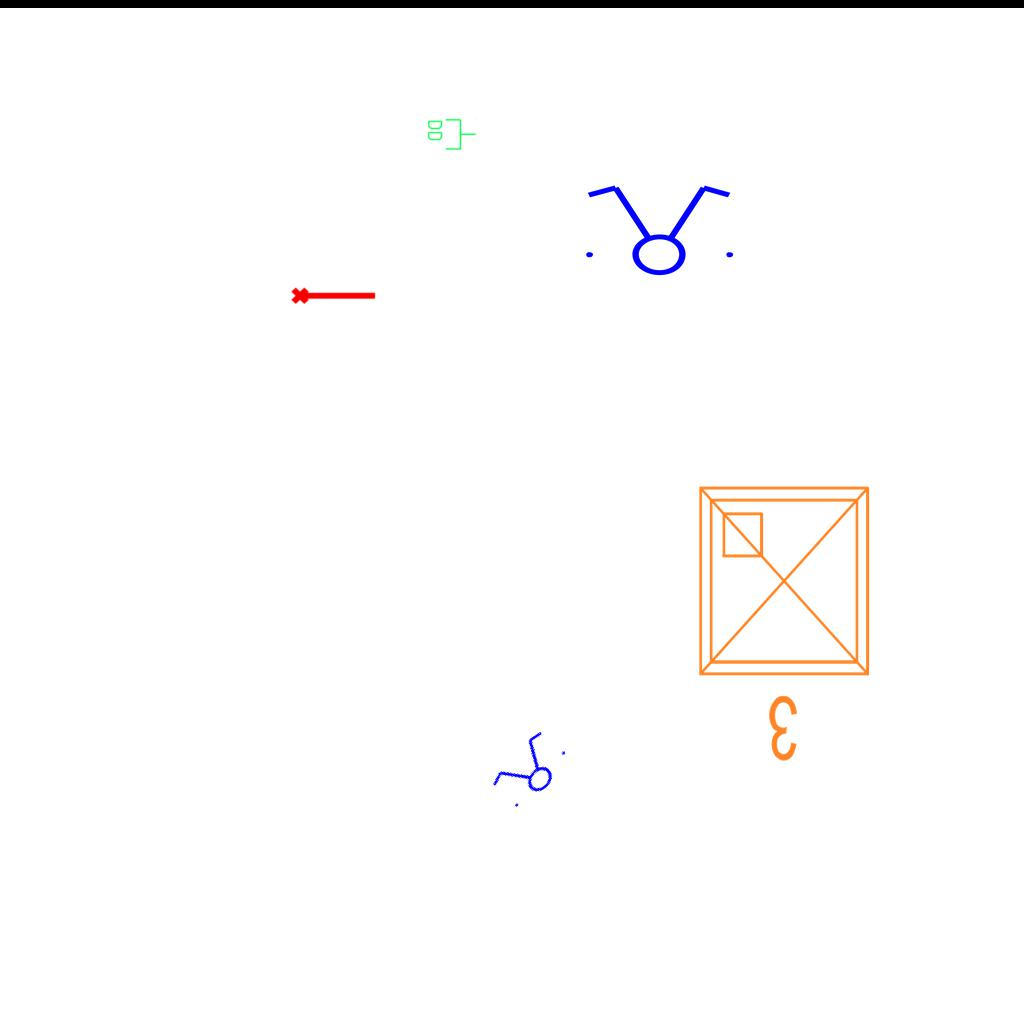ASR_Ansaugoeffnung: (290, 283, 378, 306)
Datenanschluss_zweifach: (426, 117, 477, 151)
Einbaudownlights_LED_Konferenzraeume: (684, 472, 892, 772)
Serienschalter: (574, 181, 742, 277), (484, 723, 576, 819)
